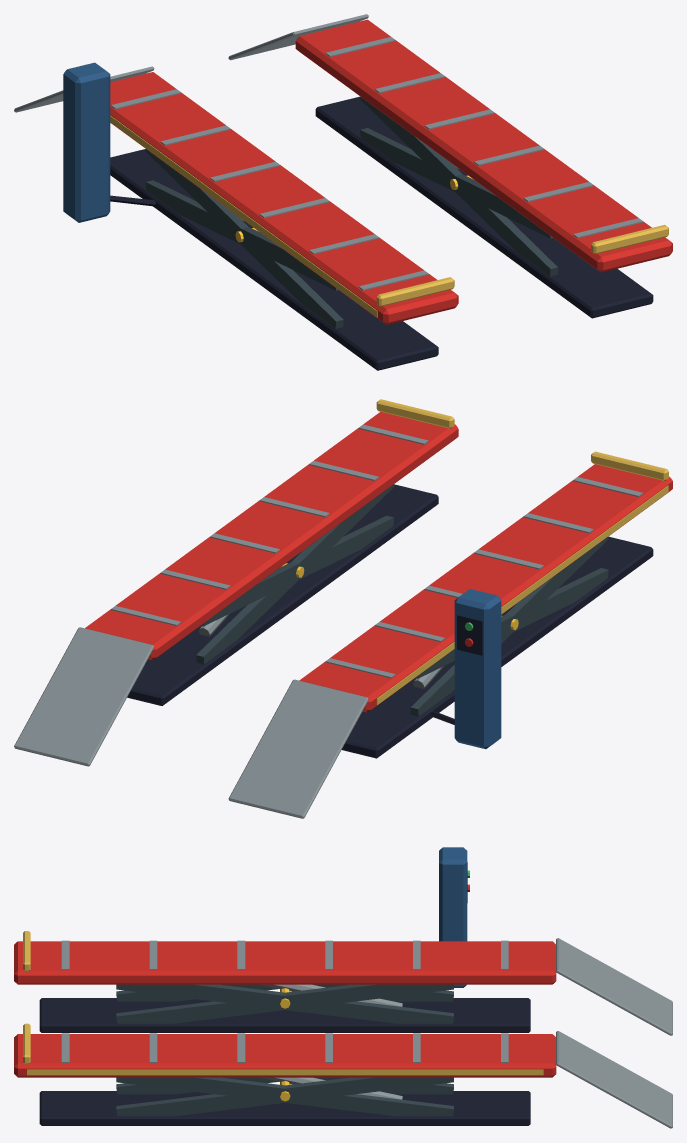
The model's file is sm_env_depot_scissor_lift.glb.
3 views of the same model, one above another, from view 1: azimuth 30°, elevation 25°; view 2: azimuth 150°, elevation 25°; view 3: azimuth 270°, elevation 25° (orthographic). The views are drawn at different scales.
Parts seen in each view (by area): view 1: Runway.001, Runway, BaseFrame.001, BaseFrame, ControlPost, ScissorB.002, ScissorB, ScissorA, ScissorA.002, RunwayStripe, Ramp.001, WheelStop (+2 smaller); view 2: Runway.001, Runway, Ramp, Ramp.001, BaseFrame.001, BaseFrame, ControlPost, ScissorA.002, ScissorB.002, ScissorA, ScissorB, RunwayStripe (+3 smaller); view 3: Runway, Runway.001, BaseFrame.001, BaseFrame, ScissorA.003, ScissorA.001, ScissorB.003, ScissorB.001, Ramp, Ramp.001, RunwayStripe.001, ControlPost (+6 smaller).
Boxes of the visible parts, x1,y1,x2,y2 form: Runway.001: (295, 19, 672, 272); Runway: (110, 72, 458, 324); BaseFrame.001: (315, 96, 653, 318); BaseFrame: (110, 149, 438, 370); ControlPost: (63, 62, 110, 222); ScissorB.002: (360, 97, 558, 276); ScissorB: (145, 149, 343, 328); ScissorA: (145, 180, 338, 290); ScissorA.002: (360, 128, 552, 238); RunwayStripe: (110, 115, 377, 317); Ramp.001: (228, 14, 368, 60); WheelStop: (376, 277, 454, 306); Runway.001: (85, 412, 458, 660); Runway: (299, 464, 672, 712); Ramp: (228, 679, 368, 818); Ramp.001: (14, 627, 154, 766); BaseFrame.001: (127, 484, 438, 705); BaseFrame: (341, 536, 653, 758); ControlPost: (454, 589, 501, 749); ScissorA.002: (196, 484, 394, 664); ScissorB.002: (201, 515, 394, 626); ScissorA: (410, 537, 608, 716); ScissorB: (415, 568, 608, 678); RunwayStripe: (376, 485, 668, 705); Runway: (14, 941, 556, 984); Runway.001: (14, 1034, 556, 1077); BaseFrame.001: (39, 1091, 530, 1125); BaseFrame: (39, 998, 530, 1032); ScissorA.003: (116, 1077, 453, 1116); ScissorA.001: (116, 984, 453, 1023); ScissorB.003: (116, 1077, 453, 1116); ScissorB.001: (116, 984, 453, 1023); Ramp: (556, 938, 672, 1035); Ramp.001: (556, 1031, 672, 1128); RunwayStripe.001: (27, 1069, 543, 1075); ControlPost: (439, 847, 467, 987).
Size of the model in its own units: 2.84 by 1.1 by 5.1.
